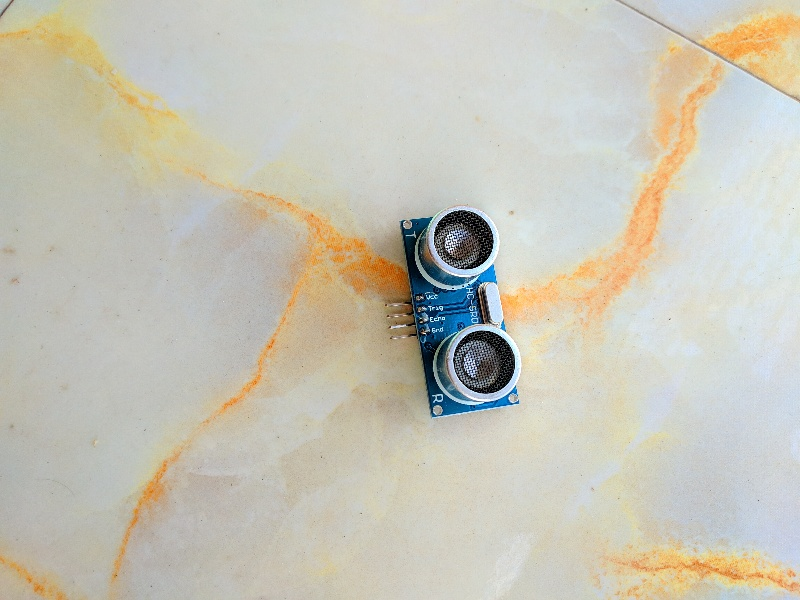Sonar Sensor: (392, 205, 531, 427)
